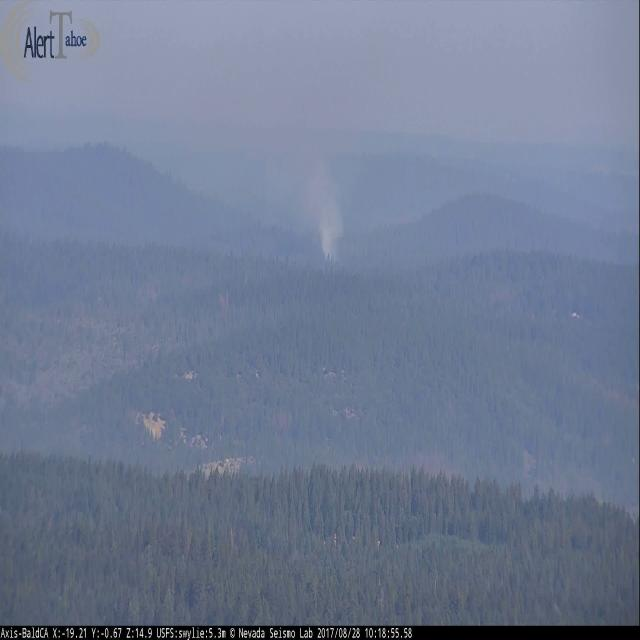smoke: (306, 171, 345, 263)
